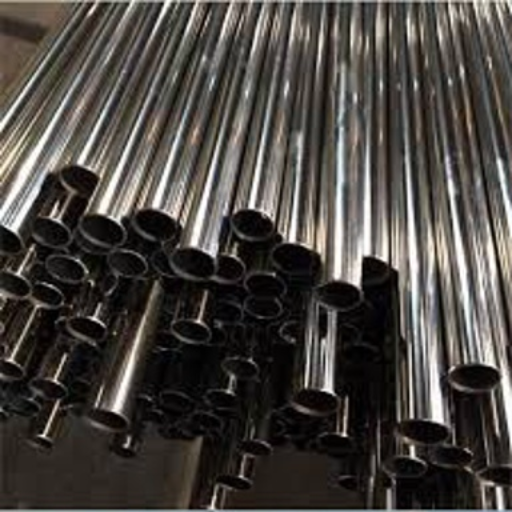Circle: (137, 211, 174, 238), (175, 249, 212, 276), (84, 216, 120, 243), (455, 365, 498, 387), (275, 245, 310, 270), (320, 284, 358, 307), (64, 167, 97, 192), (236, 211, 269, 235), (34, 220, 67, 243), (401, 423, 443, 440), (296, 392, 335, 410), (112, 253, 144, 274), (92, 411, 126, 430), (70, 317, 103, 336), (248, 277, 282, 295), (53, 259, 83, 278), (0, 273, 25, 294), (388, 459, 422, 474), (34, 285, 60, 303), (175, 323, 204, 339), (0, 228, 20, 251), (221, 257, 242, 278), (249, 300, 277, 315), (33, 381, 63, 395), (437, 449, 467, 463), (483, 469, 511, 484), (227, 361, 254, 376), (155, 252, 173, 273), (365, 260, 384, 279), (209, 394, 232, 408), (323, 436, 349, 448), (221, 476, 247, 488), (215, 305, 237, 318), (0, 363, 20, 376), (164, 396, 187, 407), (244, 443, 267, 454), (156, 335, 176, 346), (15, 400, 35, 411), (283, 324, 297, 339), (196, 417, 215, 427), (33, 437, 50, 447), (211, 330, 222, 342), (344, 329, 354, 342), (342, 479, 355, 488), (75, 381, 85, 391), (150, 415, 164, 422), (119, 448, 132, 455)
